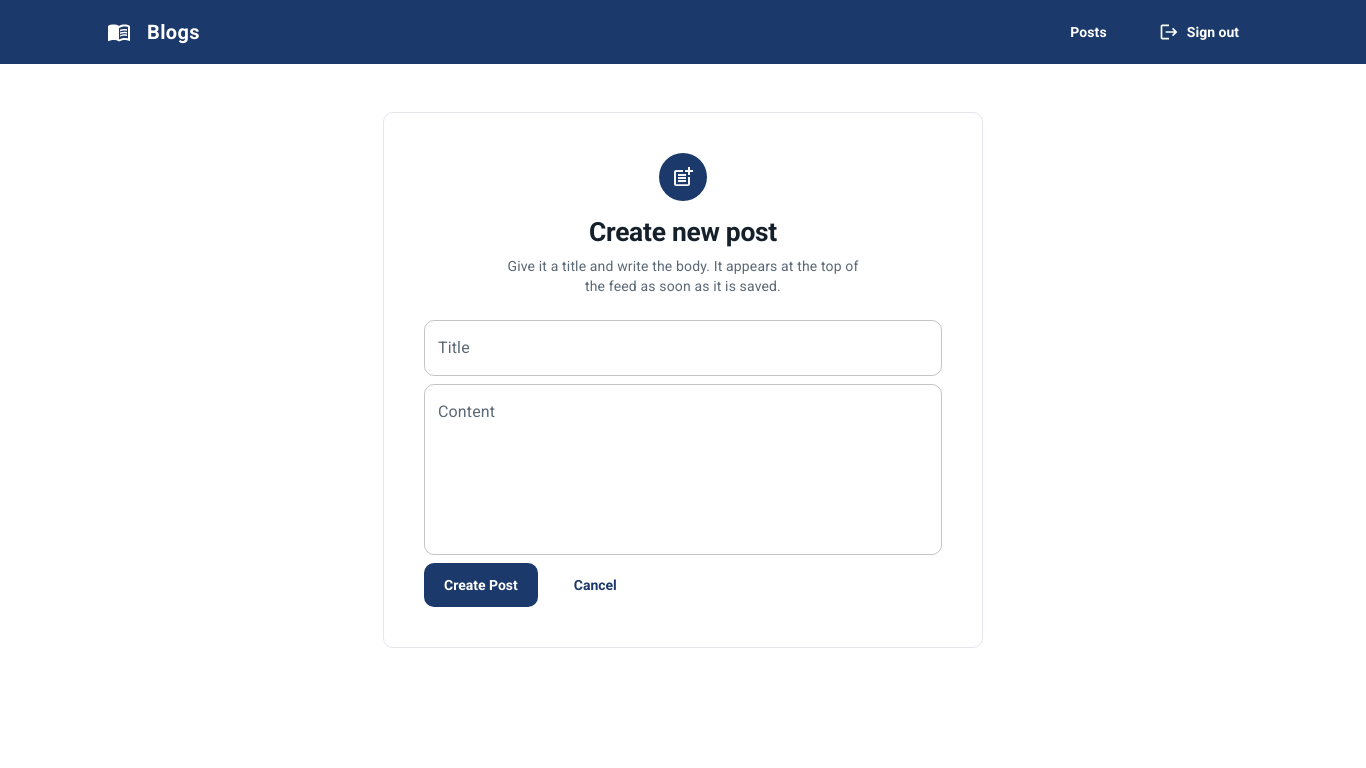
Scenario: <NewPost /> › reports missing values
Click the button "Create Post": (481, 585) [424,563,538,607]
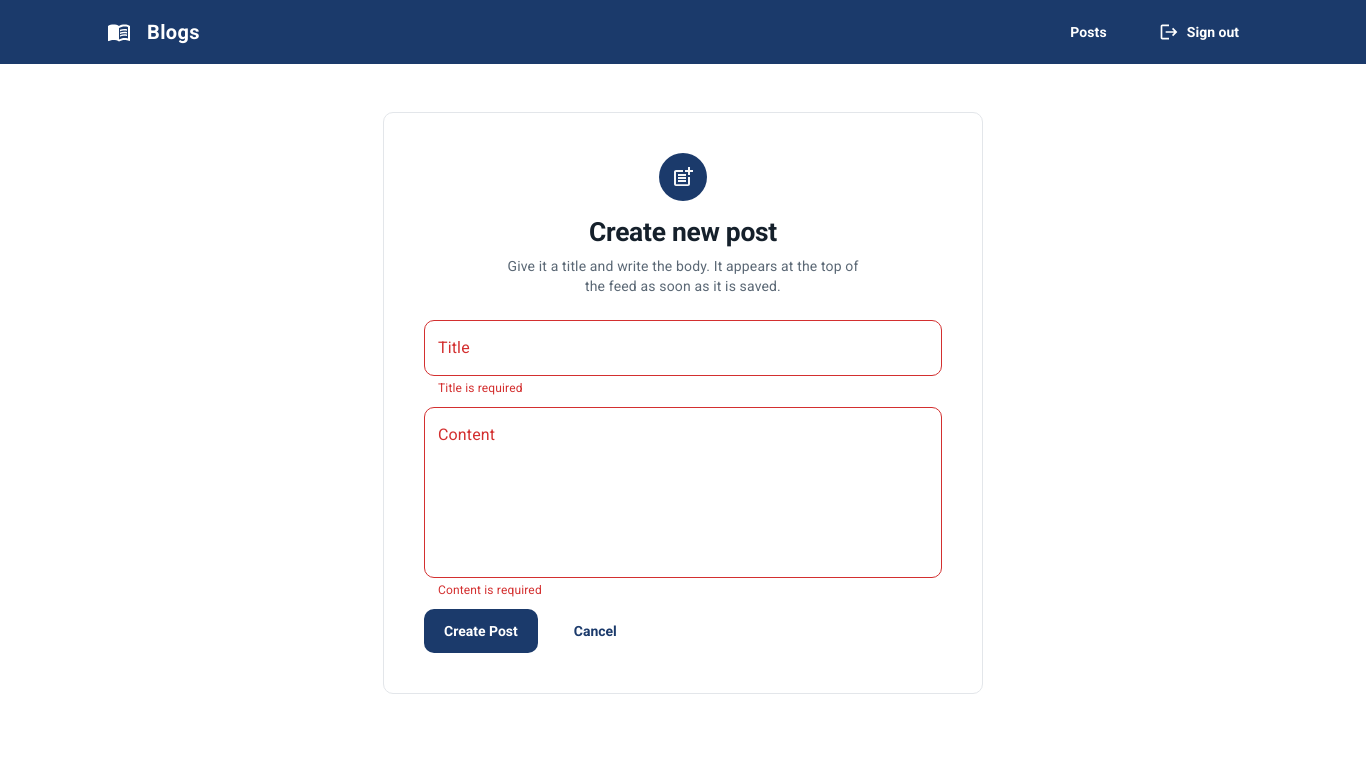
Now the text "Title is required" is shown, box [438,381,523,395]
Now the text "Content is required" is shown, box [438,583,542,597]
